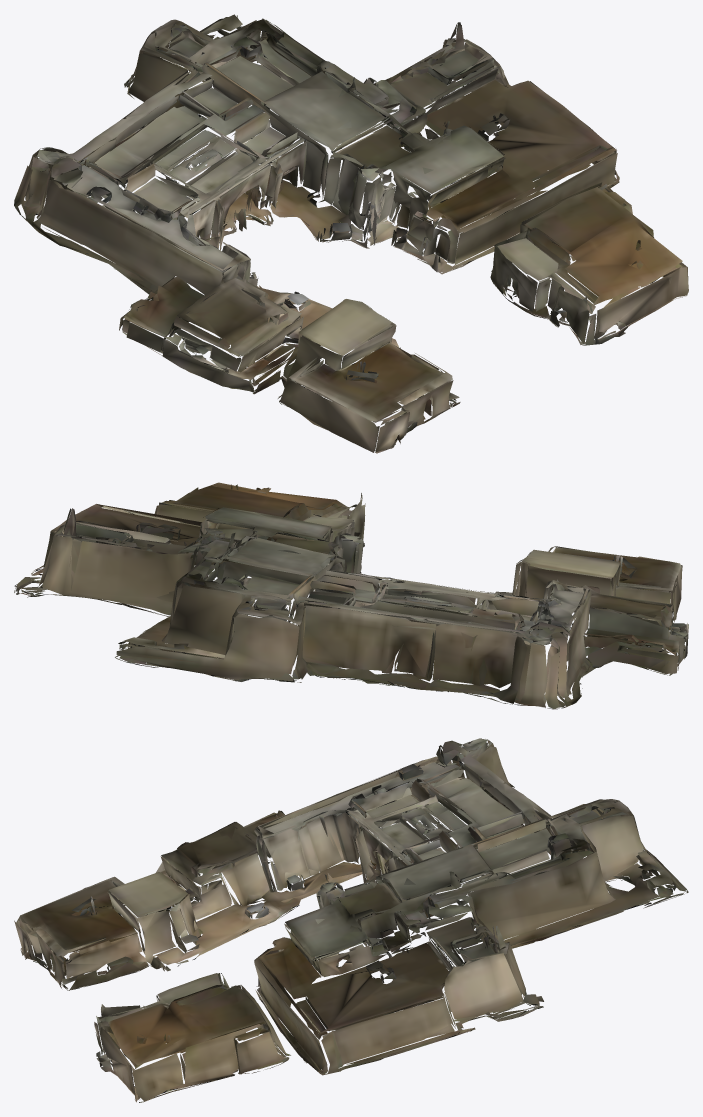
Rendered from arvala-nikto-compound.lo.glb.
3 views of the same model, one above another, from view 1: azimuth 30°, elevation 25°; view 2: azimuth 150°, elevation 25°; view 3: azimuth 270°, elevation 25° (orthographic). The views are drawn at different scales.
Visible parts, largest first — view 1: low; view 2: low; view 3: low.
Boxes of the visible parts, x1,y1,x2,y2 form: low: (14,14,688,453); low: (14,482,688,709); low: (14,738,688,1102).
Size of the model in its own units: 0.8022 by 0.2765 by 0.8956.
1 material, 1 textured.
